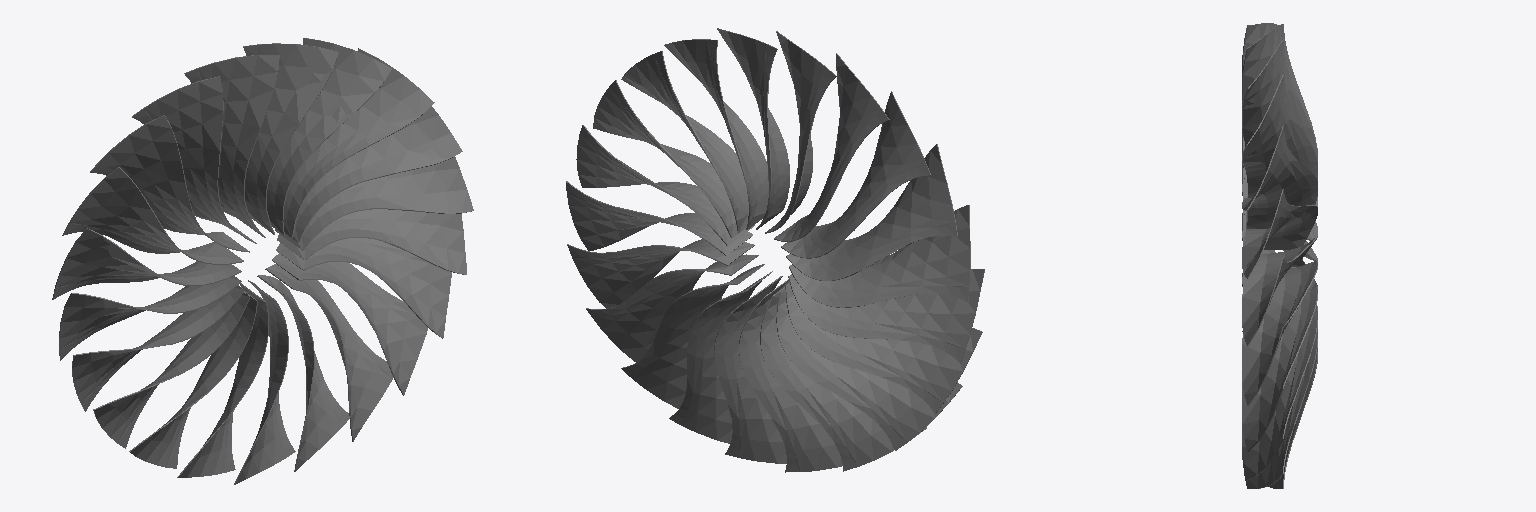
Rendered from propeller.obj.
The picture shows the model from 3 angles: view 1: azimuth 30°, elevation 25°; view 2: azimuth 150°, elevation 25°; view 3: azimuth 270°, elevation 25°; orthographic projection.
Visible parts, largest first — view 1: Turbine Propeller-4, Turbine Propeller-5, Turbine Propeller-3, Turbine Propeller-6, Turbine Propeller-7, Turbine Propeller-2, Turbine Propeller-1, Turbine Propeller, Turbine Propeller-20, Turbine Propeller-19, Turbine Propeller-8, Turbine Propeller-18 (+9 smaller); view 2: Turbine Propeller-9, Turbine Propeller-10, Turbine Propeller-8, Turbine Propeller-11, Turbine Propeller-12, Turbine Propeller-13, Turbine Propeller-7, Turbine Propeller-14, Turbine Propeller-15, Turbine Propeller-16, Turbine Propeller-17, Turbine Propeller-18 (+9 smaller); view 3: Turbine Propeller-20, Turbine Propeller-19, Turbine Propeller-3, Turbine Propeller-2, Turbine Propeller-18, Turbine Propeller-1, Turbine Propeller-4, Turbine Propeller, Turbine Propeller-5, Turbine Propeller-17.
Part boxes in pixels (x1,y1,x2,y2): Turbine Propeller-4: (243,43,338,234); Turbine Propeller-5: (184,55,279,237); Turbine Propeller-3: (267,38,391,234); Turbine Propeller-6: (132,76,256,243); Turbine Propeller-7: (90,115,249,252); Turbine Propeller-2: (283,48,434,237); Turbine Propeller-1: (285,106,462,242); Turbine Propeller: (275,156,473,250); Turbine Propeller-20: (277,209,466,274); Turbine Propeller-19: (276,238,451,338); Turbine Propeller-8: (62,167,243,264); Turbine Propeller-18: (272,253,427,395); Turbine Propeller-9: (789,205,970,307); Turbine Propeller-10: (788,269,984,362); Turbine Propeller-8: (786,144,957,280); Turbine Propeller-11: (785,282,982,413); Turbine Propeller-12: (776,288,962,450); Turbine Propeller-13: (760,287,926,471); Turbine Propeller-7: (781,91,930,258); Turbine Propeller-14: (739,279,842,472); Turbine Propeller-15: (714,276,786,463); Turbine Propeller-16: (669,271,772,443); Turbine Propeller-17: (621,264,764,408); Turbine Propeller-18: (586,254,758,361); Turbine Propeller-20: (1242,261,1317,405); Turbine Propeller-19: (1242,280,1317,451); Turbine Propeller-3: (1242,75,1317,229); Turbine Propeller-2: (1242,126,1317,228); Turbine Propeller-18: (1242,305,1317,480); Turbine Propeller-1: (1242,189,1317,278); Turbine Propeller-4: (1242,39,1317,222); Turbine Propeller: (1242,236,1317,346); Turbine Propeller-5: (1242,24,1317,214); Turbine Propeller-17: (1242,327,1317,488).
Size of the model in its own units: 6349 by 6349 by 1047.